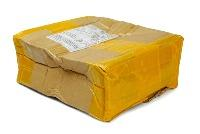undamaged: (12, 13, 185, 123)
